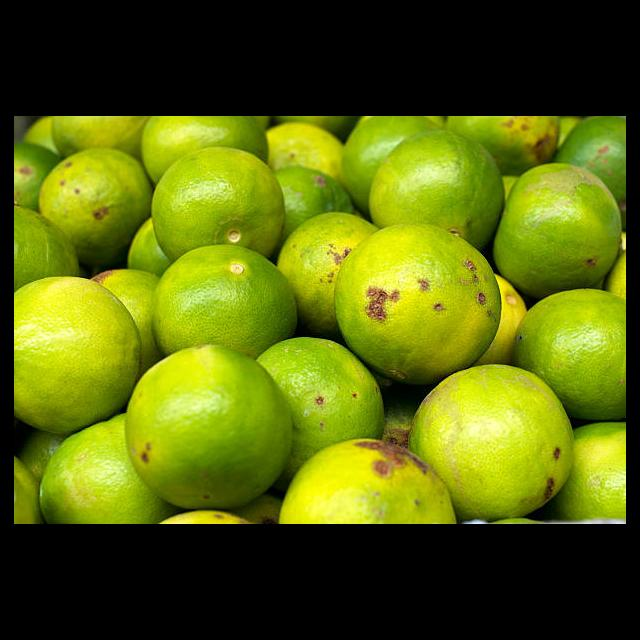lime: (328, 223, 504, 388), (407, 364, 576, 524), (14, 276, 155, 440), (255, 337, 386, 494), (277, 439, 459, 524), (513, 289, 626, 424), (276, 212, 379, 341), (446, 116, 565, 179)
